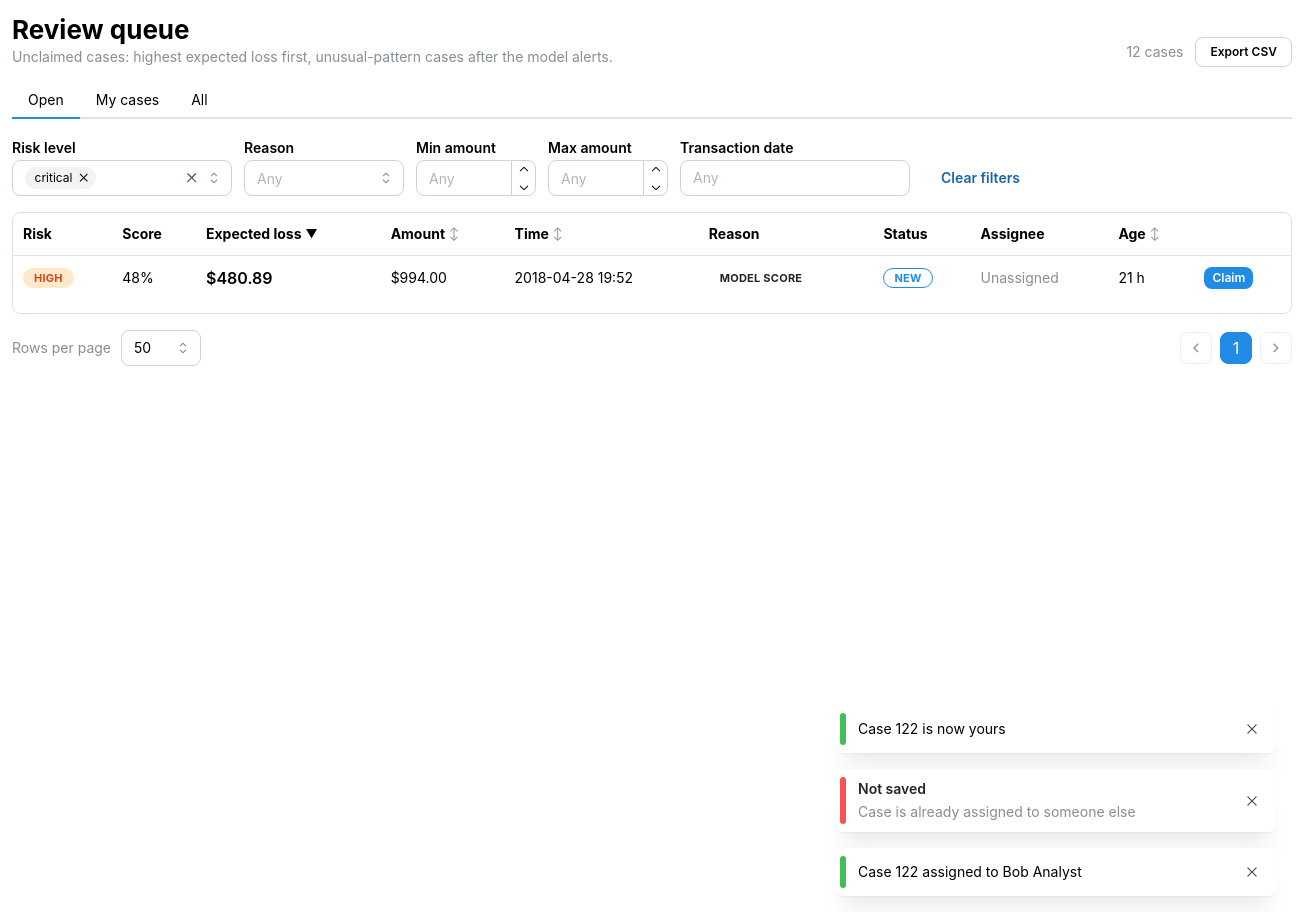
Test: amount filter and export › exports the cases of the current view
Expected: the row named "Case 122" is shown, [13,255,1291,301]
What coordinates should you click on to do the following:
click the button "Export CSV"
I would click on:
 (1244, 52)
Its box is [1196,37,1292,67].
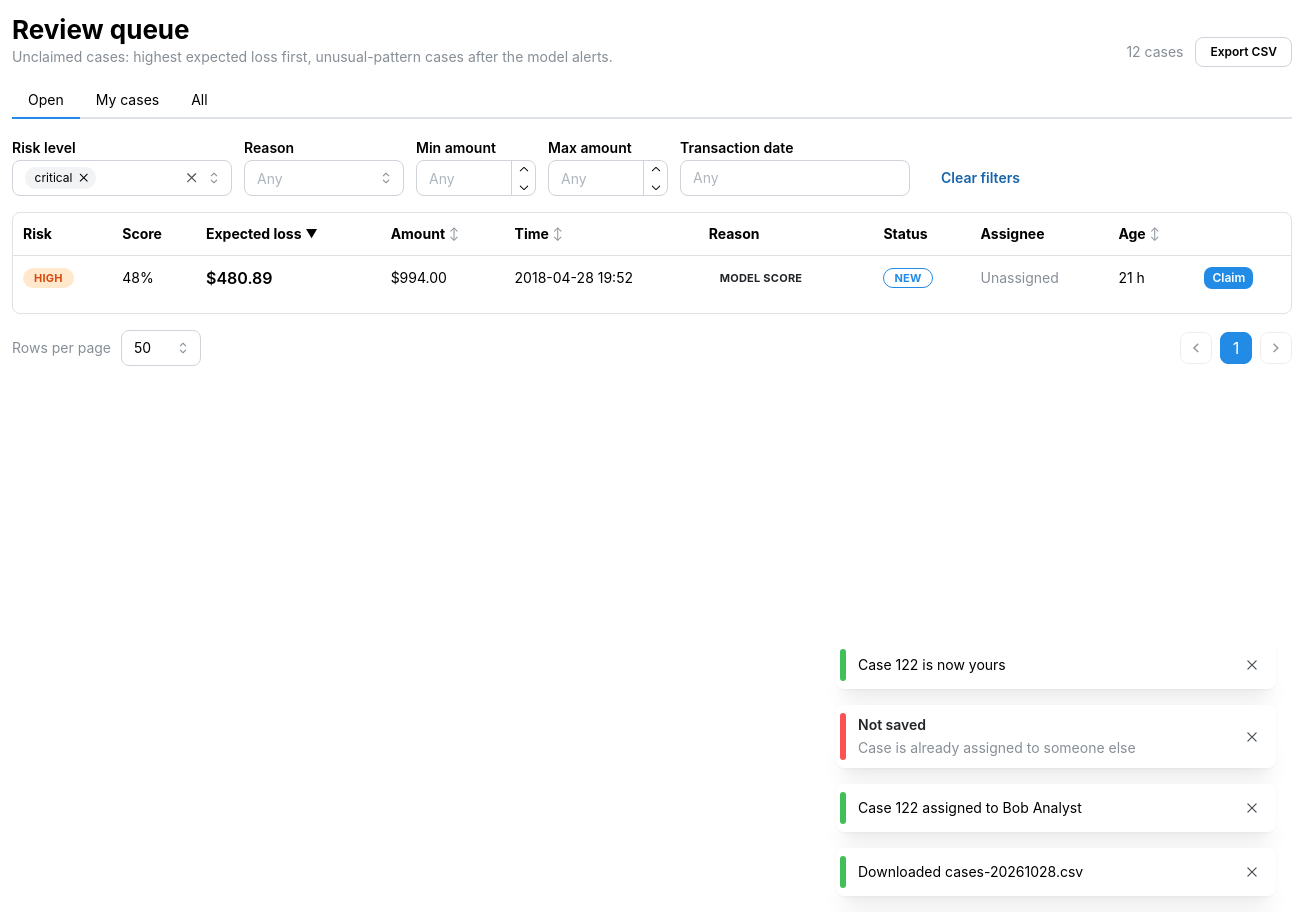
Expected: the text "Downloaded cases-20261028.csv" is shown, [858,863,1083,880]
